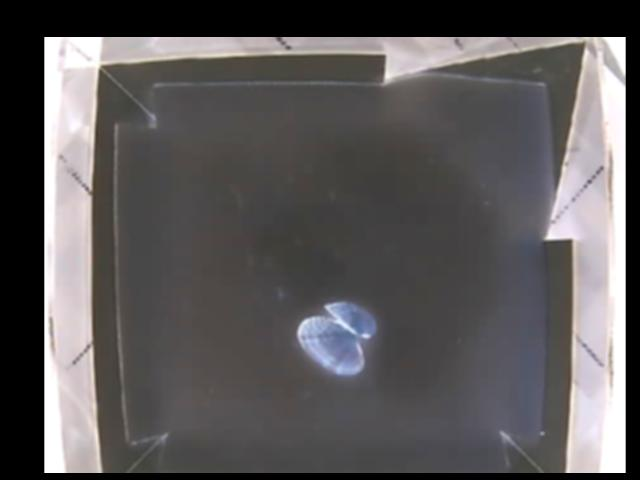Shell: (297, 304, 375, 373)
